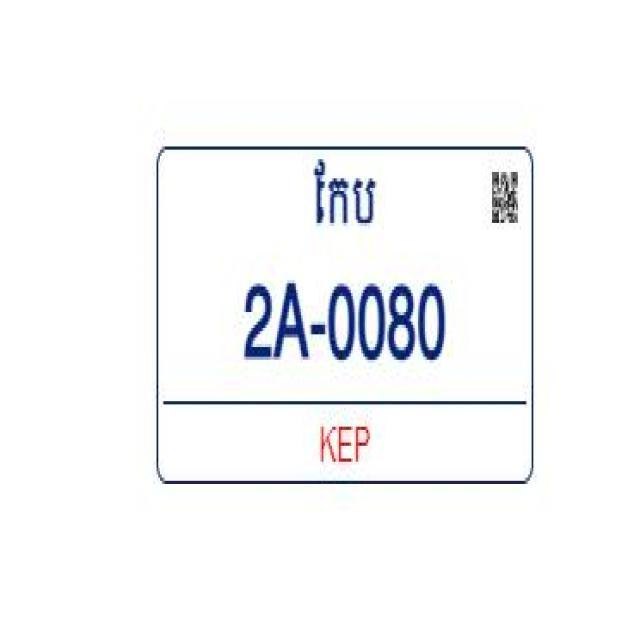Kep: (308, 153, 378, 244)
